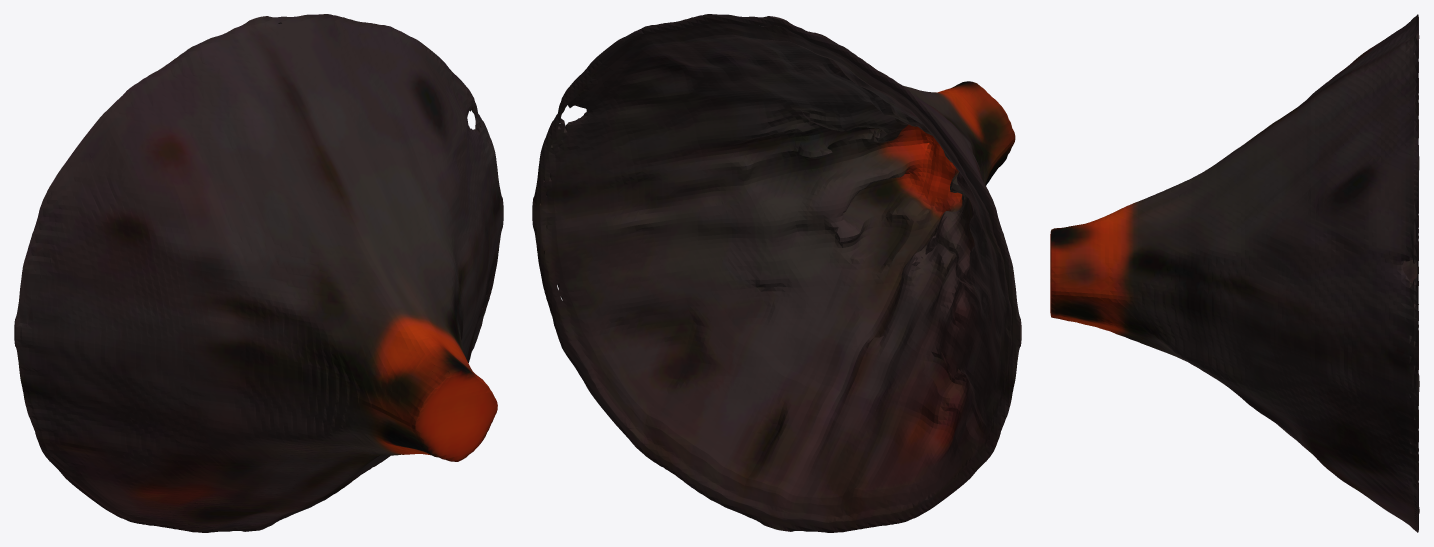
File: volcano_203104.glb
3 views of the same model, side by side, from view 1: azimuth 30°, elevation 25°; view 2: azimuth 150°, elevation 25°; view 3: azimuth 270°, elevation 25° (orthographic). The views are drawn at different scales.
Parts seen in each view (by area): view 1: world; view 2: world; view 3: world.
Part boxes in pixels (x1,y1,x2,y2): world: (14, 14, 503, 532); world: (532, 14, 1021, 532); world: (1050, 14, 1419, 532).
Size of the model in its own units: 1.98 by 1.98 by 1.39.
